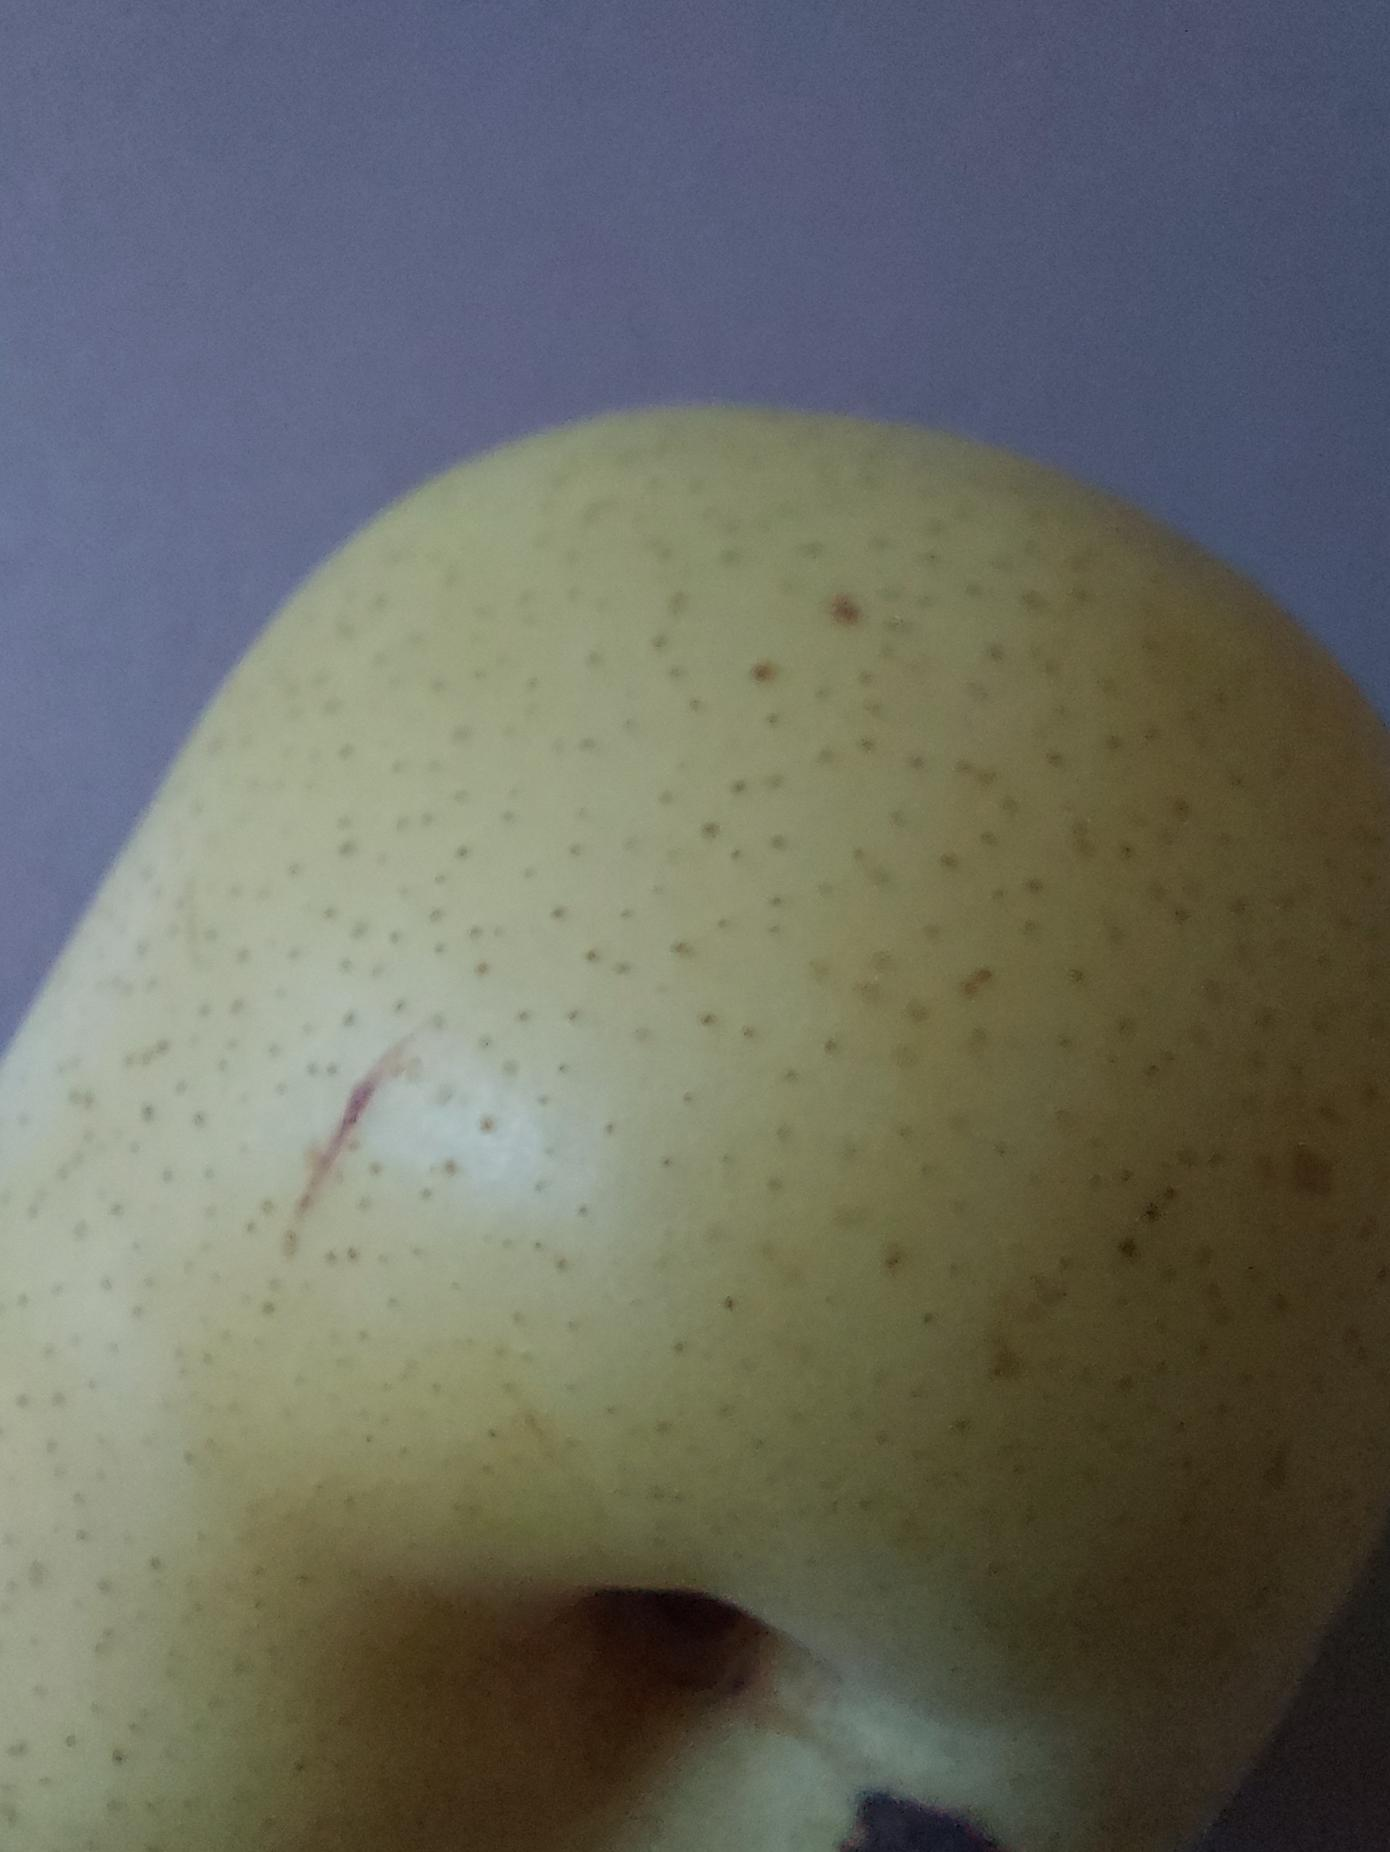Good Pear: (0, 384, 1390, 1852)
